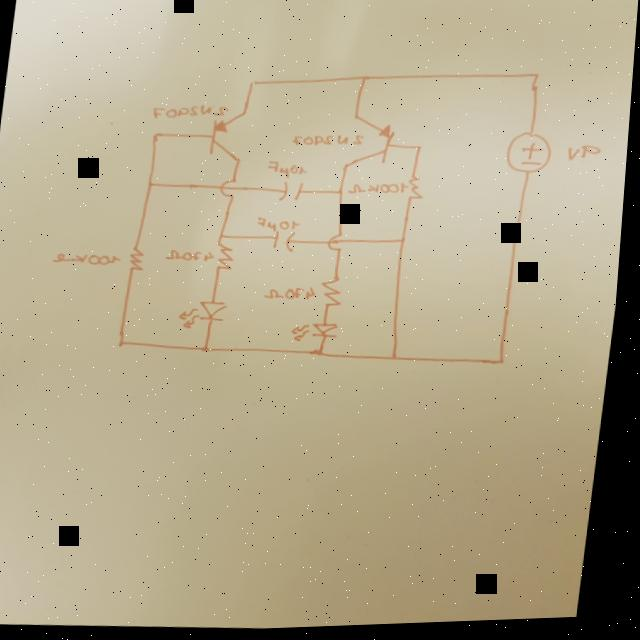capacitor: (279, 181, 310, 207), (275, 231, 303, 256)
crossover: (221, 180, 243, 202), (330, 235, 350, 255)
diode: (181, 299, 236, 333), (294, 323, 347, 347)
junction: (119, 337, 137, 351), (203, 345, 220, 357), (150, 132, 164, 143), (358, 76, 372, 87), (501, 360, 514, 371), (319, 351, 331, 362), (395, 357, 407, 368), (148, 180, 160, 191), (400, 240, 413, 249), (248, 81, 261, 90), (530, 76, 543, 85), (416, 146, 426, 157), (338, 192, 347, 200), (220, 234, 230, 241)
resistor: (322, 278, 352, 312), (217, 247, 241, 274), (409, 177, 431, 205), (130, 246, 151, 274)
source: (505, 134, 557, 179)
text: (150, 102, 232, 123), (293, 133, 370, 155), (55, 251, 127, 269), (268, 286, 322, 305), (267, 162, 313, 183), (356, 184, 415, 200), (258, 217, 305, 236), (169, 249, 221, 266), (567, 147, 607, 168)
transistor: (343, 116, 401, 174), (208, 110, 252, 167)
